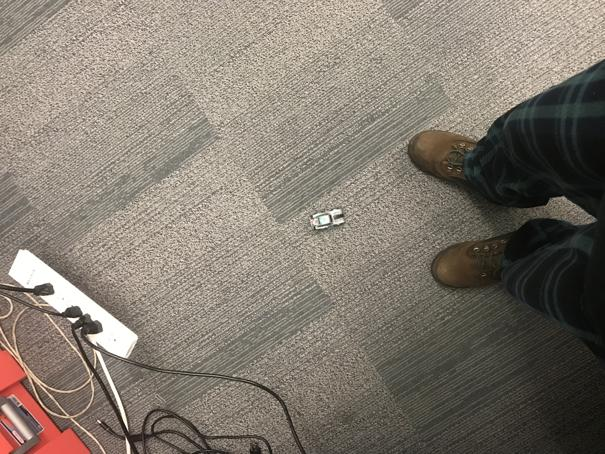Charger: (309, 208, 348, 232)
